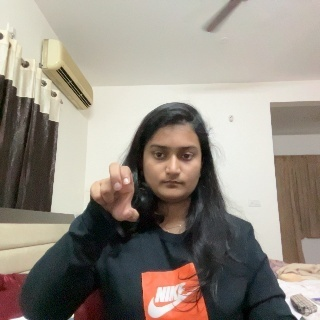Face: (139, 111, 202, 196)
No: (91, 158, 141, 250)
